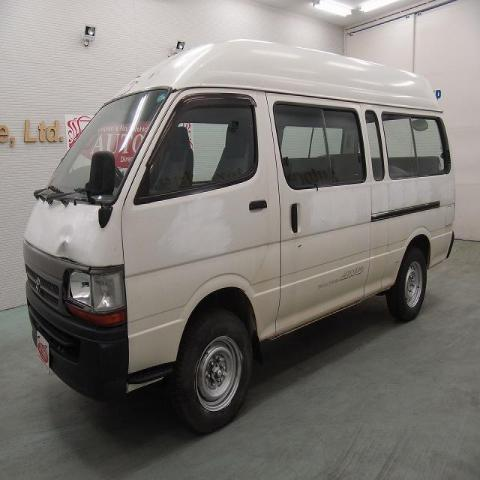van: (25, 39, 458, 438)
